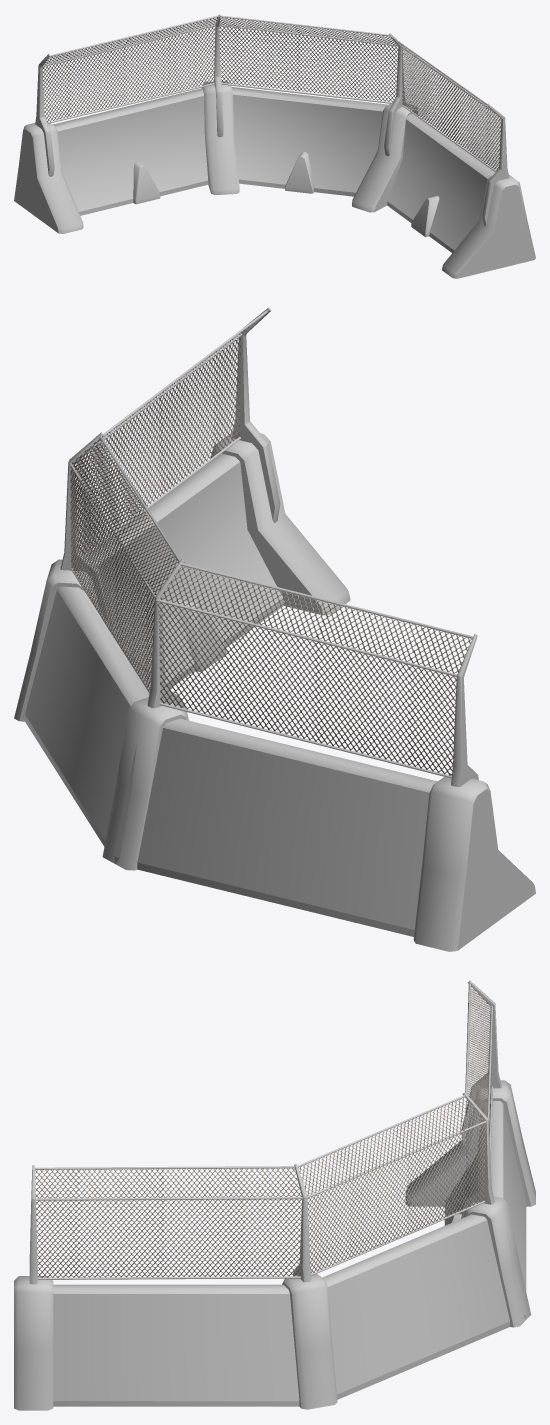
Rendered from WallFence_angle45double.fbx.
3 views of the same model, one above another, from view 1: azimuth 30°, elevation 25°; view 2: azimuth 150°, elevation 25°; view 3: azimuth 270°, elevation 25° (orthographic). The views are drawn at different scales.
Parts seen in each view (by area): view 1: WallFence, fence20, fence19; view 2: WallFence, fence20, fence19; view 3: WallFence, fence20, fence19.
Boxes of the visible parts, left/top/right/bottom form: WallFence: left=14, top=14, right=535, bottom=278; fence20: left=42, top=17, right=500, bottom=170; fence19: left=42, top=15, right=496, bottom=172; WallFence: left=14, top=307, right=535, bottom=951; fence20: left=70, top=327, right=472, bottom=775; fence19: left=69, top=310, right=473, bottom=778; WallFence: left=14, top=980, right=535, bottom=1410; fence20: left=35, top=985, right=491, bottom=1277; fence19: left=35, top=984, right=493, bottom=1279.
Size of the model in its own units: 666 by 307 by 666.
